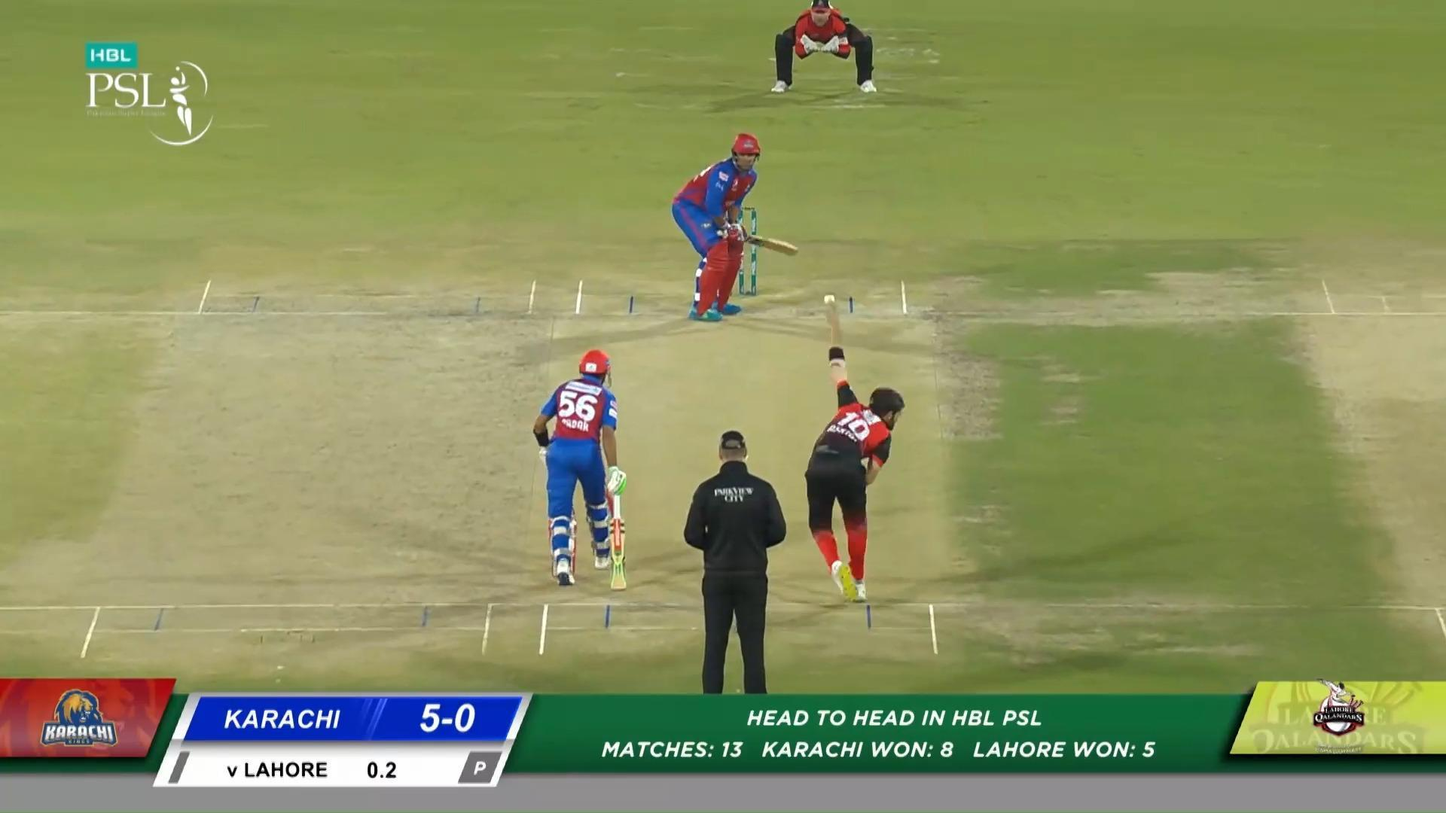BM 1: (672, 134, 799, 320)
BO: (805, 303, 906, 604)
